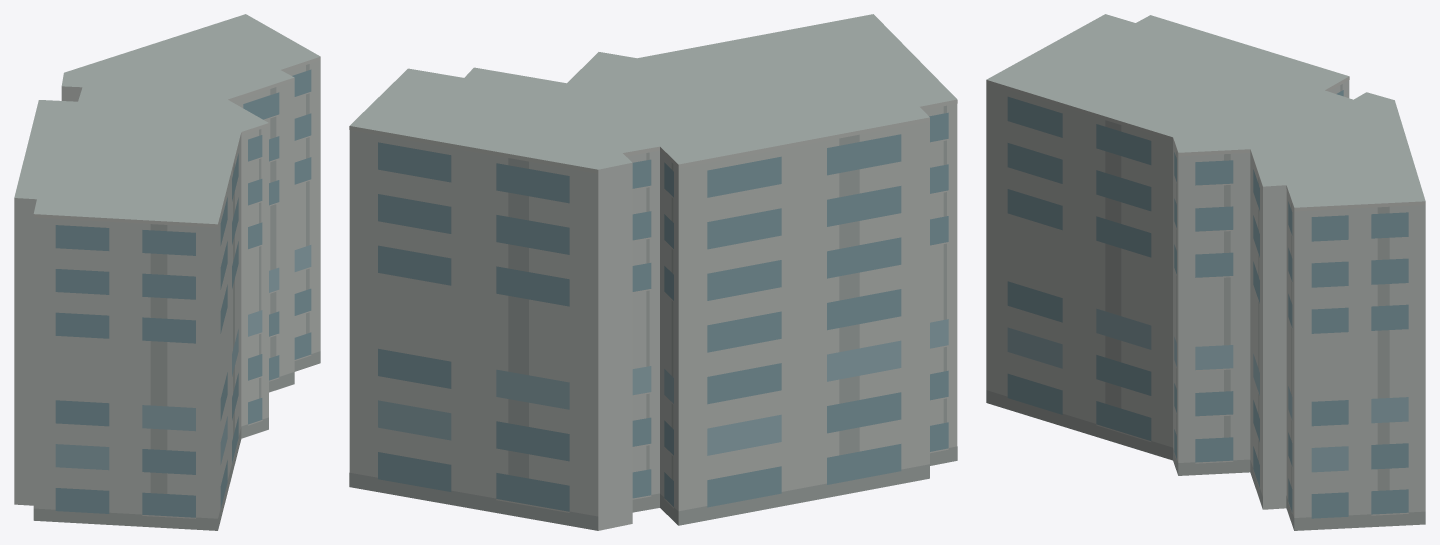
The model's file is survey-upis-32660559.glb.
3 renders of one model, left to right at view 1: azimuth 30°, elevation 25°; view 2: azimuth 150°, elevation 25°; view 3: azimuth 270°, elevation 25°, orthographic. The views are drawn at different scales.
Parts seen in each view (by area): view 1: survey-upis-32660559.tmp; view 2: survey-upis-32660559.tmp; view 3: survey-upis-32660559.tmp.
Boxes of the visible parts, x1,y1,x2,y2 form: survey-upis-32660559.tmp: (14, 14, 320, 530); survey-upis-32660559.tmp: (349, 14, 957, 530); survey-upis-32660559.tmp: (986, 14, 1425, 530).
Bounding box in the file's own units: 27.46 × 21.35 × 26.32.
